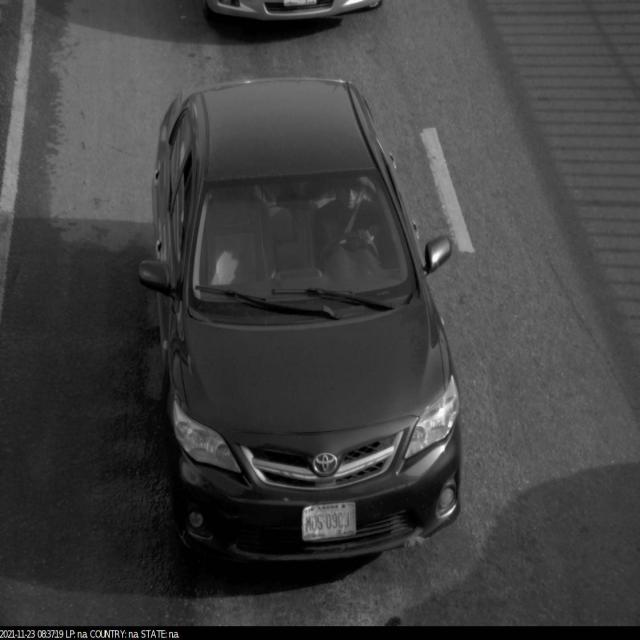windshield: (181, 157, 428, 337)
